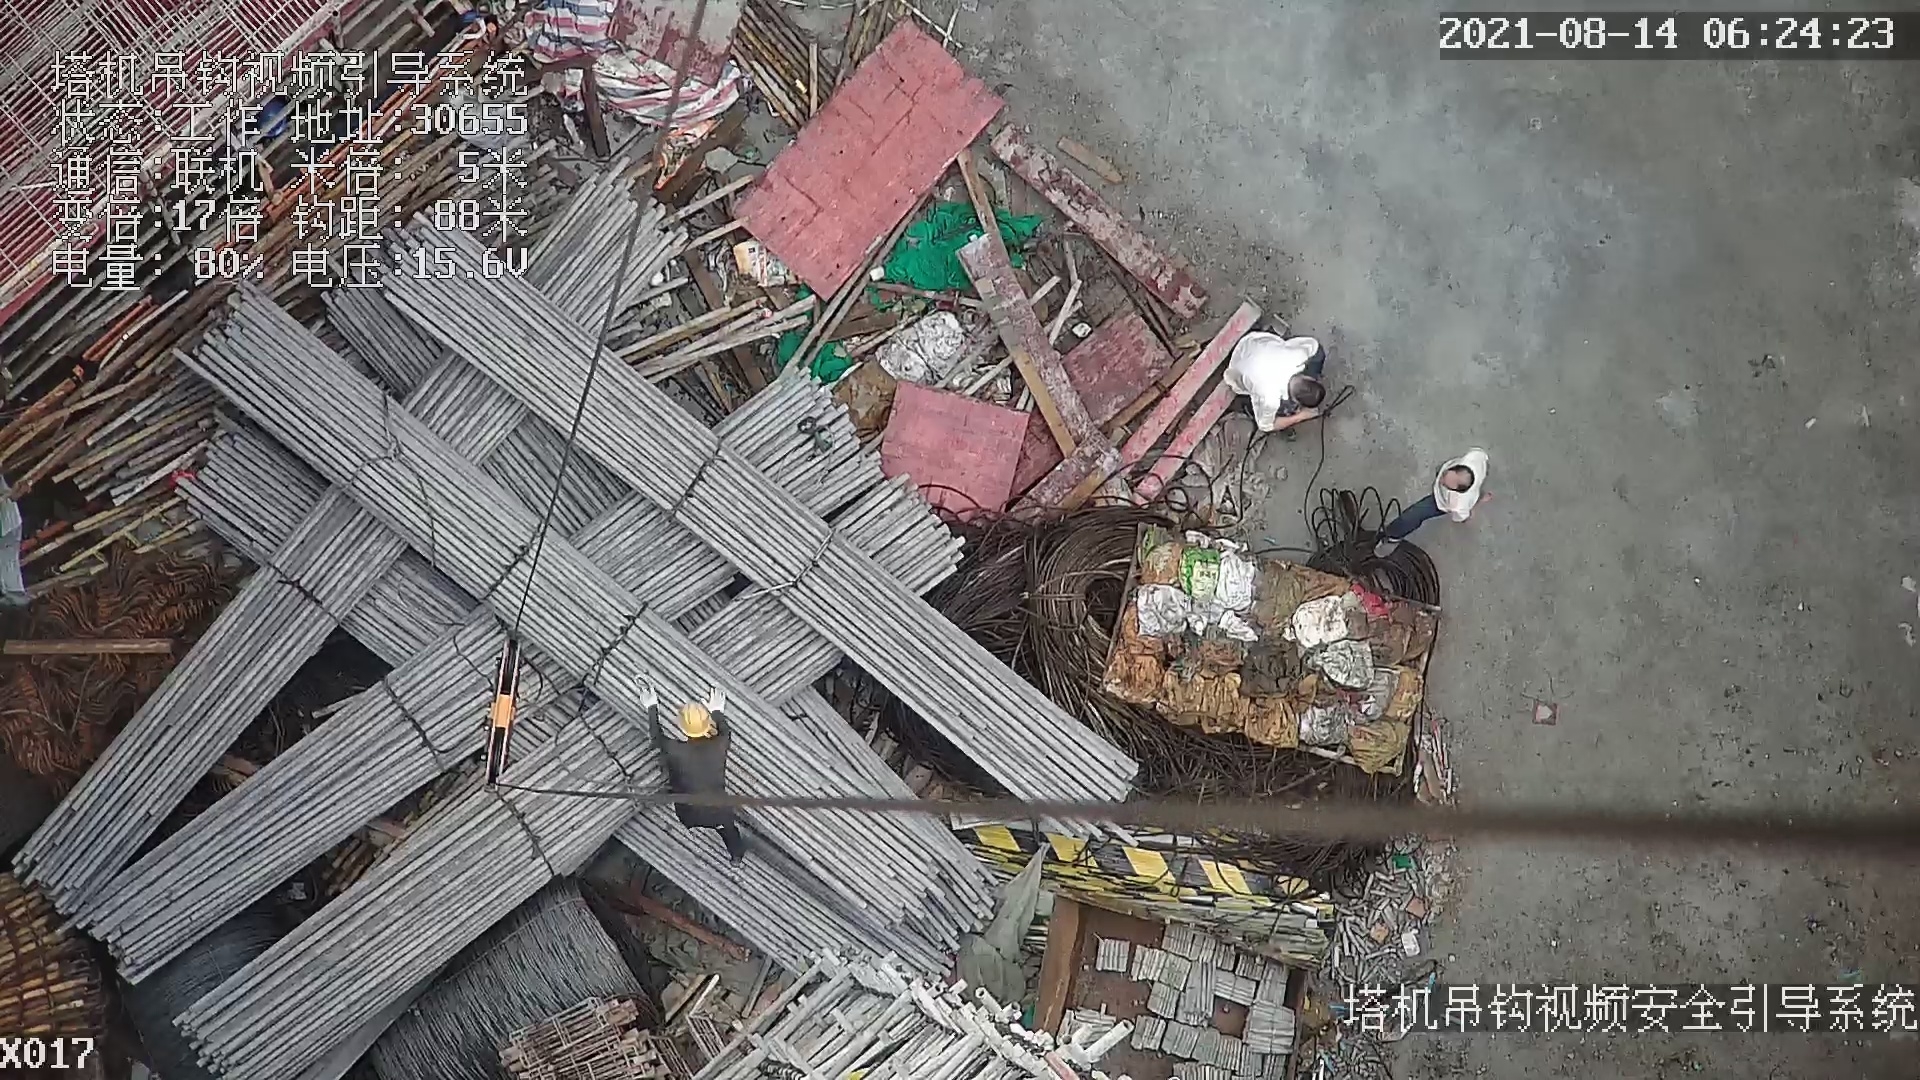helmet: (677, 700, 711, 737)
hook: (487, 630, 523, 804)
person: (633, 671, 759, 868), (1372, 444, 1501, 565), (1229, 327, 1333, 435)
rebar: (183, 289, 939, 926), (388, 283, 1140, 846), (77, 611, 582, 979), (179, 701, 678, 1069), (16, 477, 409, 912)
wood: (1, 873, 120, 1039)
